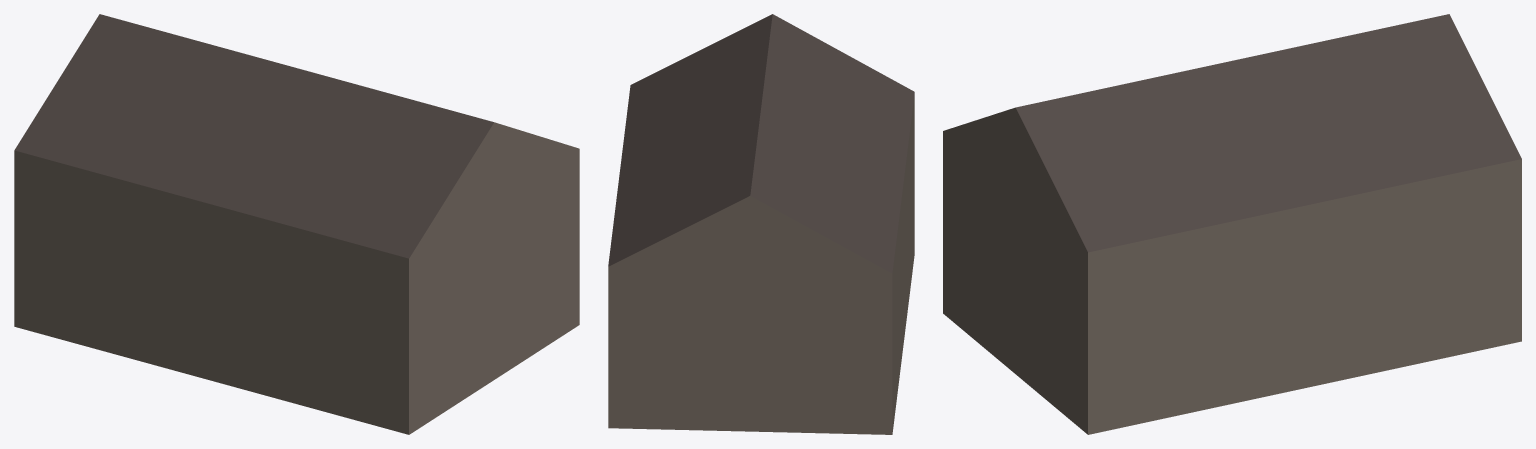
3 views of the same model, side by side, from view 1: azimuth 30°, elevation 25°; view 2: azimuth 150°, elevation 25°; view 3: azimuth 270°, elevation 25° (orthographic). The views are drawn at different scales.
Parts seen in each view (by area): view 1: HP-w859447923; view 2: HP-w859447923; view 3: HP-w859447923.
Part boxes in pixels (x1,y1,x2,y2): HP-w859447923: (14,14,579,434); HP-w859447923: (608,14,914,434); HP-w859447923: (943,14,1521,434).
Bounding box in the file's own units: 15.16 × 8.77 × 17.25.
